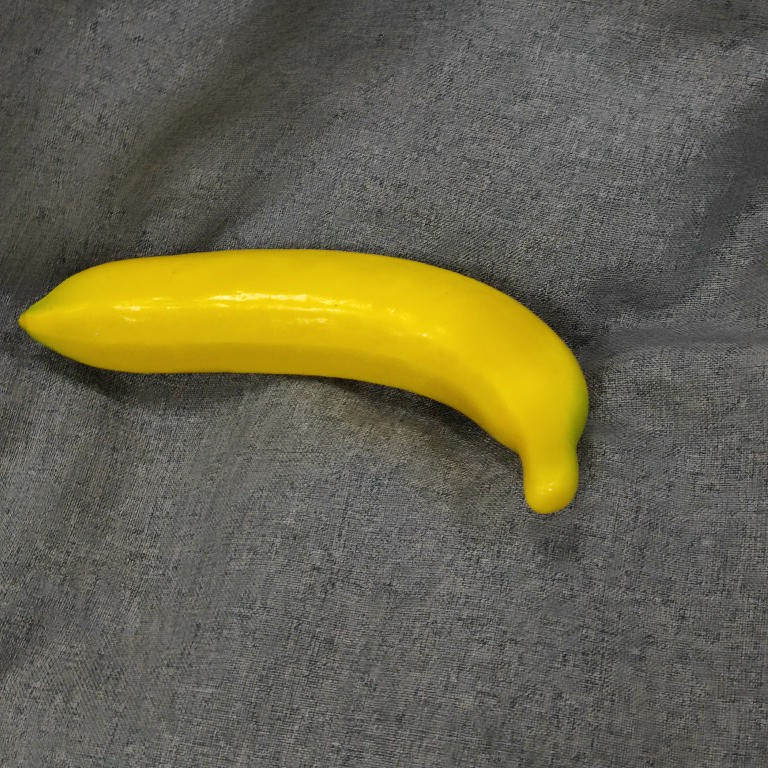fruit_banana: (11, 244, 598, 522)
